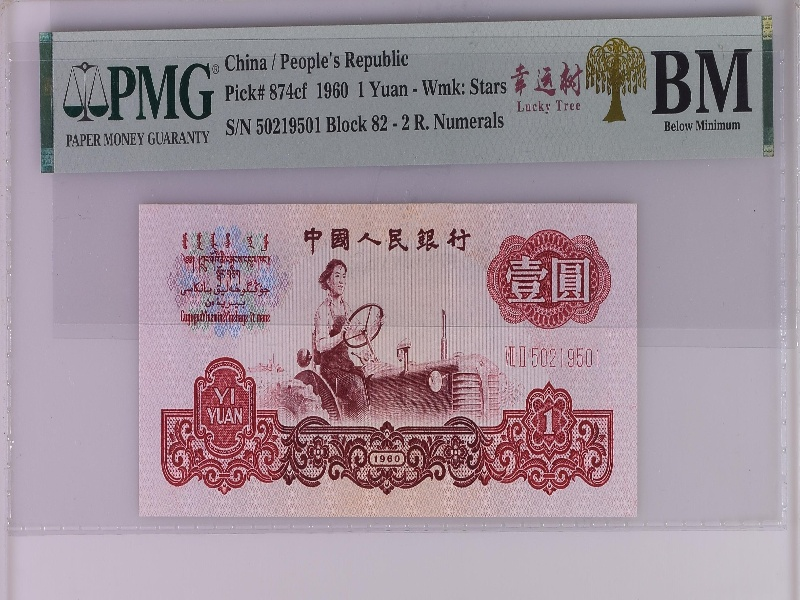papernote: (137, 202, 640, 517)
